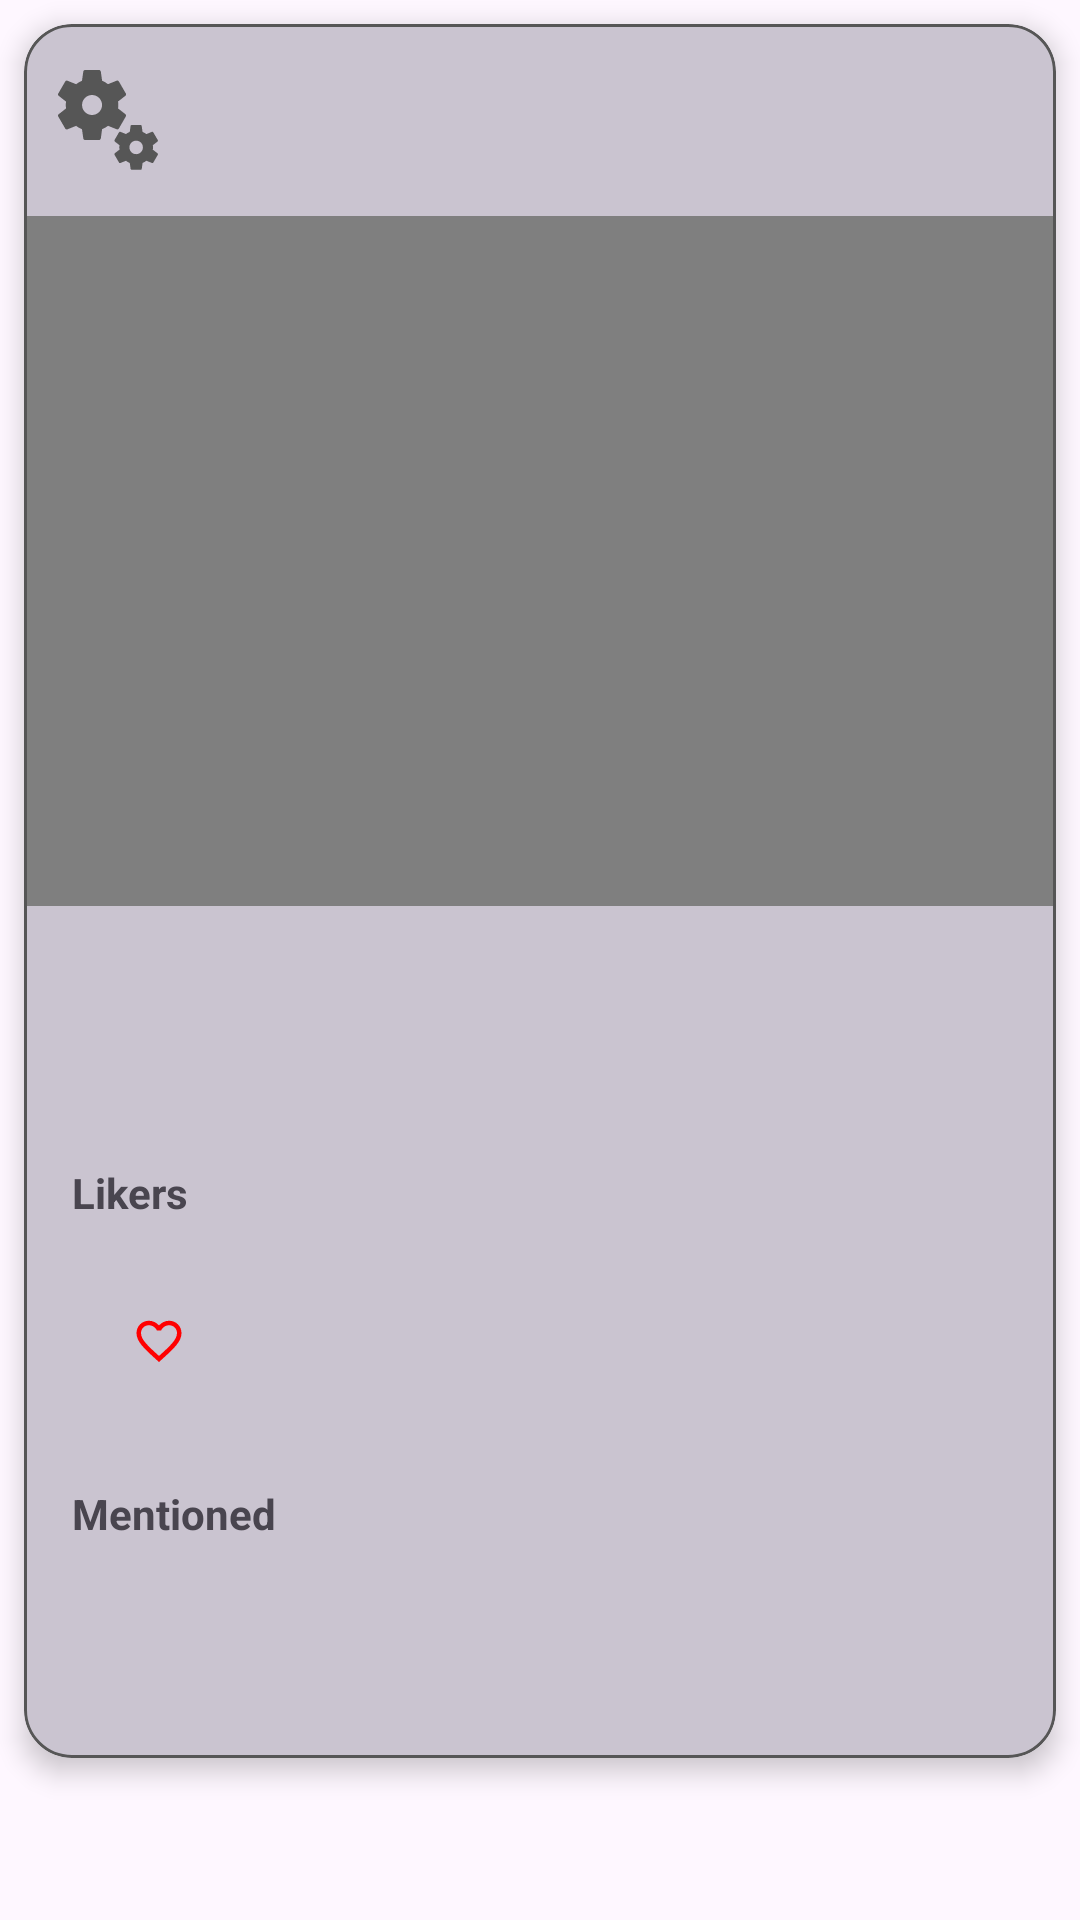

Icon click points for this 1080 x 1920 phone screenshot, format point (x, y):
Like button: point (159, 1341)
